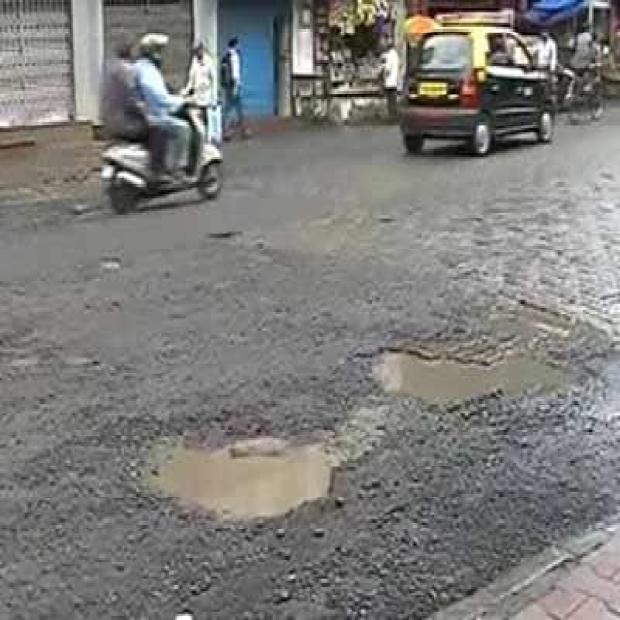lubang: (140, 409, 370, 523), (353, 341, 601, 399)
